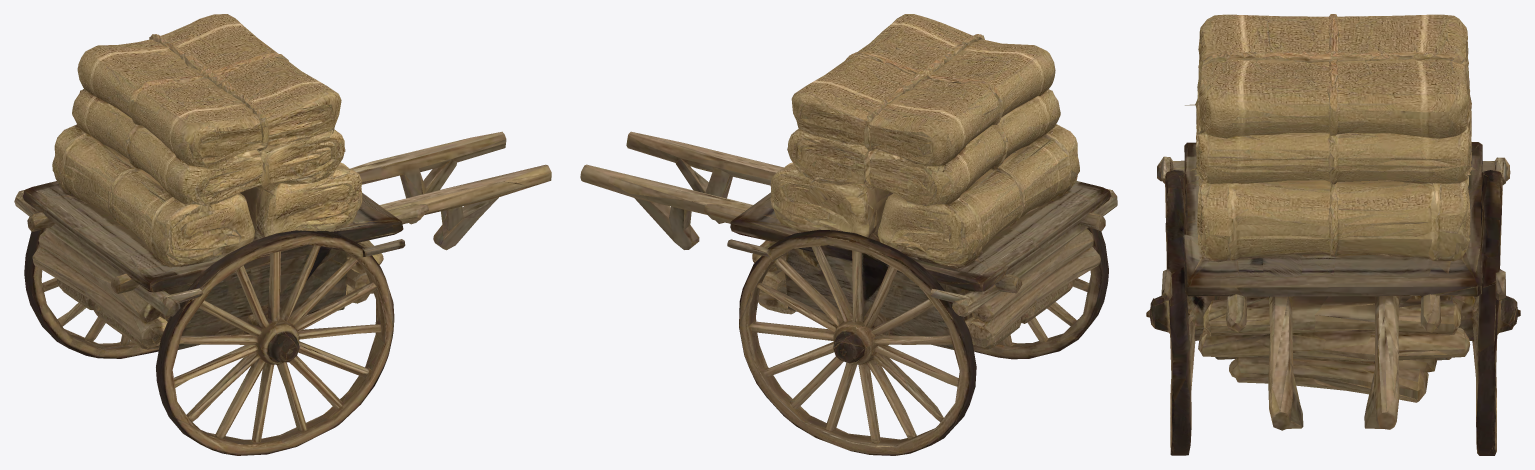
Rendered from cart.glb.
3 renders of one model, left to right at view 1: azimuth 30°, elevation 25°; view 2: azimuth 150°, elevation 25°; view 3: azimuth 270°, elevation 25°, orthographic. The views are drawn at different scales.
Parts seen in each view (by area): view 1: Mesh_0; view 2: Mesh_0; view 3: Mesh_0.
Boxes of the visible parts, x1,y1,x2,y2 form: Mesh_0: [14, 14, 551, 455]; Mesh_0: [580, 14, 1117, 455]; Mesh_0: [1146, 14, 1520, 455].
Bounding box in the file's own units: 1.9 × 1.34 × 1.17.
Materials: 1 (1 with a texture image).
